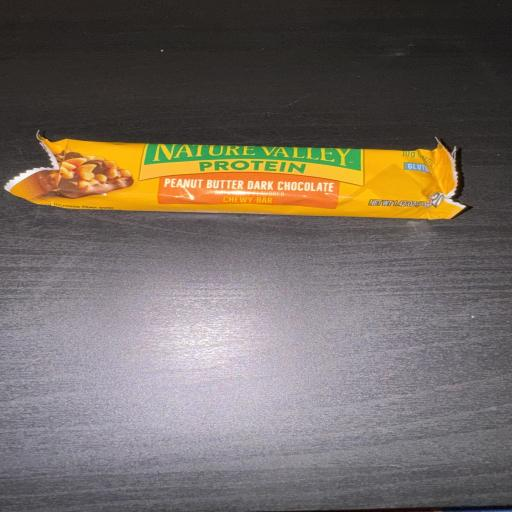granola: (6, 136, 465, 219)
